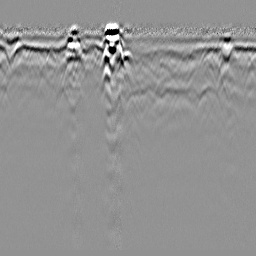cavity: (112, 49, 137, 77)
